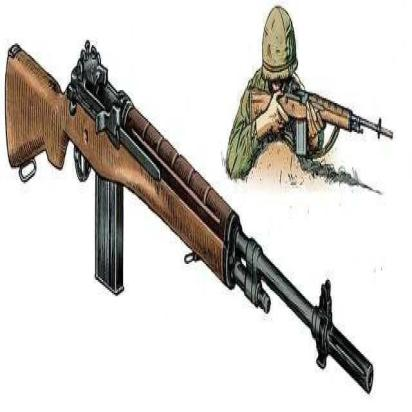Gun: (4, 35, 376, 400)
